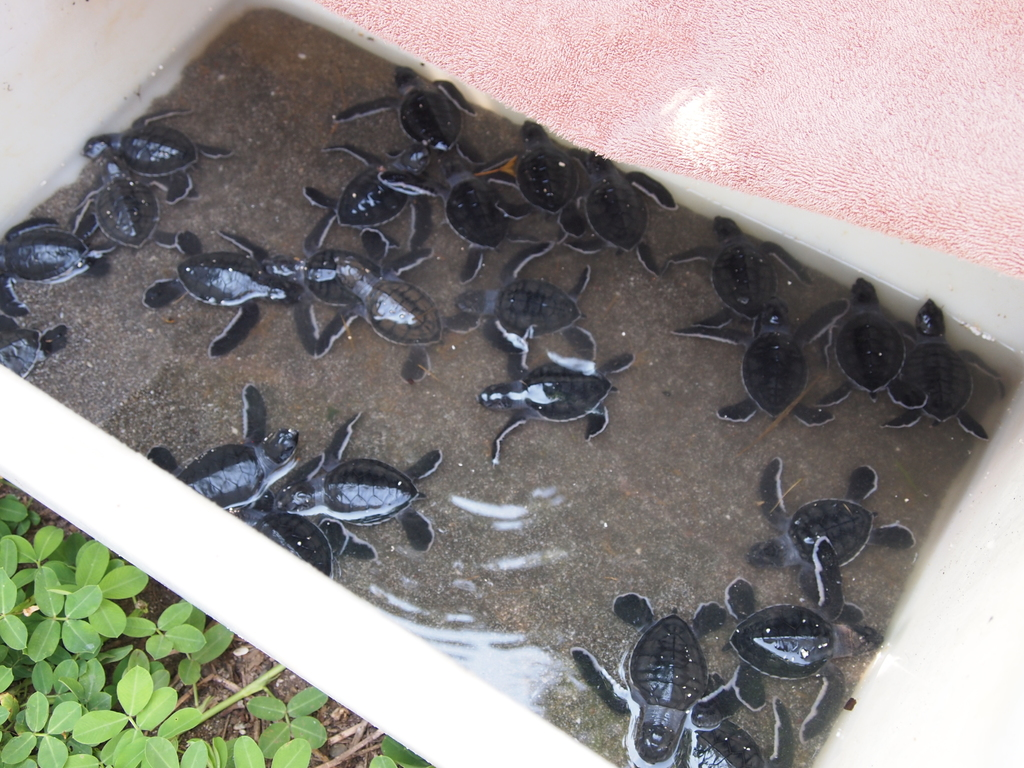Sea turtles: (558, 582, 748, 767), (739, 452, 913, 624), (277, 408, 455, 570), (307, 235, 492, 389), (716, 566, 871, 742), (143, 382, 312, 529), (664, 295, 848, 428), (478, 319, 636, 472), (142, 226, 295, 360), (876, 292, 1004, 444), (460, 229, 597, 368), (299, 136, 456, 256), (233, 456, 381, 581), (659, 215, 803, 330), (78, 107, 231, 209), (273, 238, 405, 353), (570, 145, 683, 279), (430, 157, 541, 284), (344, 67, 488, 164), (318, 136, 437, 246), (808, 276, 914, 399), (485, 113, 599, 227), (72, 153, 187, 262), (0, 214, 122, 316), (673, 677, 808, 764), (0, 312, 81, 382)
